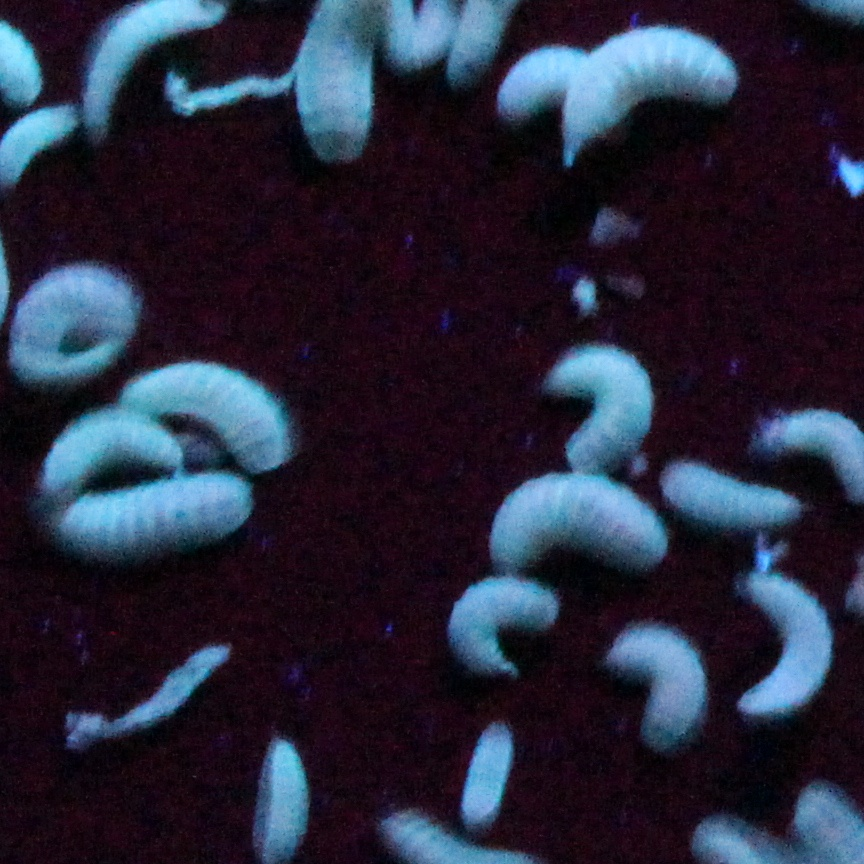larve: (556, 26, 738, 159), (125, 355, 300, 459), (488, 476, 677, 567), (56, 471, 256, 553), (540, 340, 654, 473), (740, 567, 833, 717), (615, 628, 711, 751), (444, 578, 558, 680), (665, 457, 804, 532), (42, 423, 183, 488), (461, 726, 517, 832)
